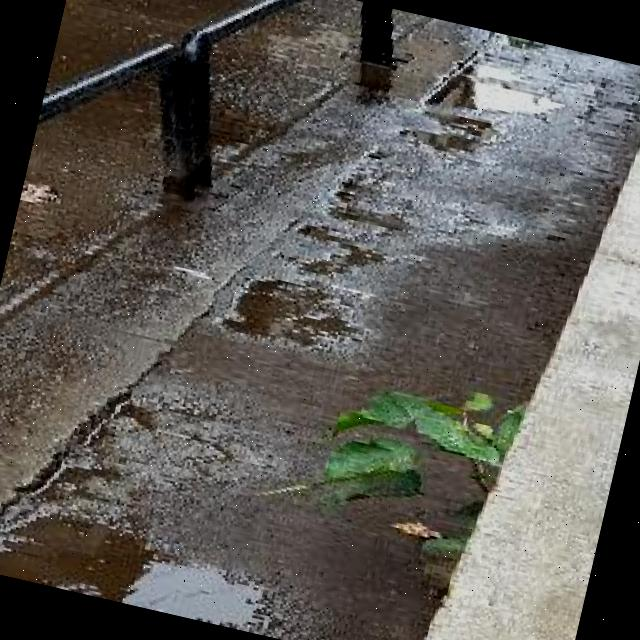stagnation: (227, 58, 578, 345), (0, 496, 282, 631)
